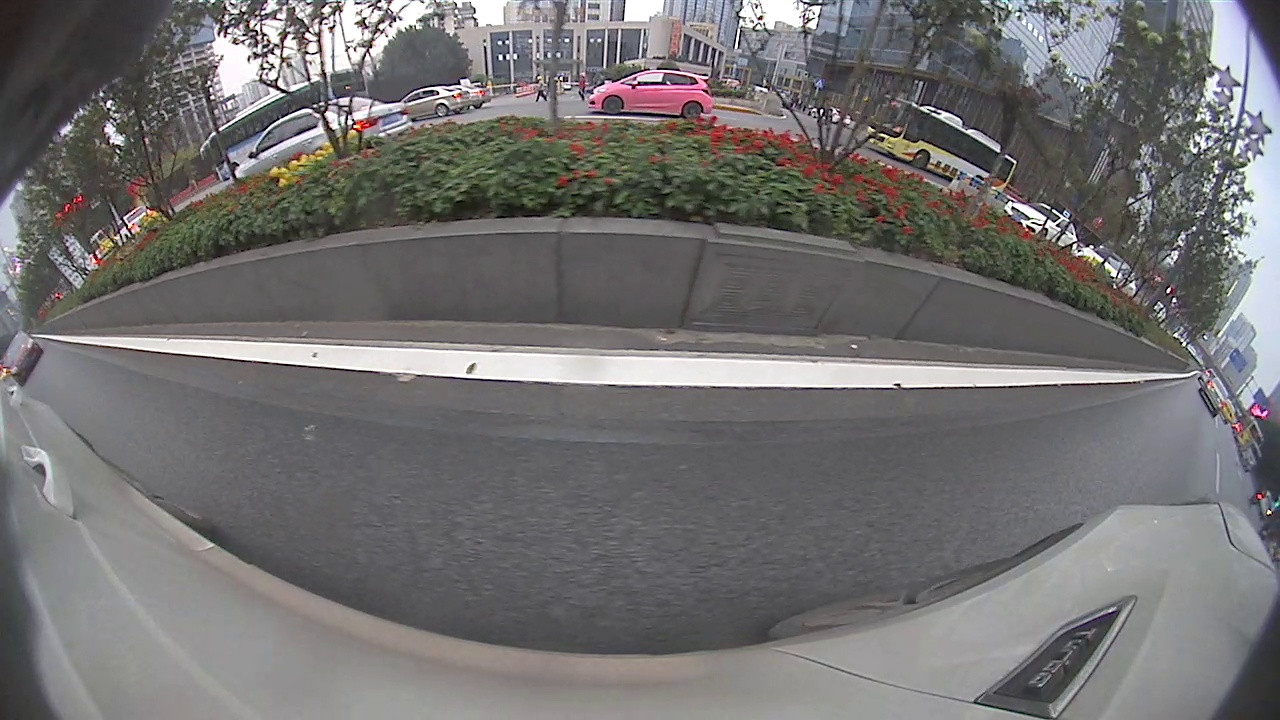car: (588, 69, 716, 127), (2, 330, 49, 390), (1198, 375, 1231, 418)
front: (604, 95, 624, 115), (911, 150, 930, 170)
rear: (682, 100, 705, 121), (434, 103, 451, 119)
